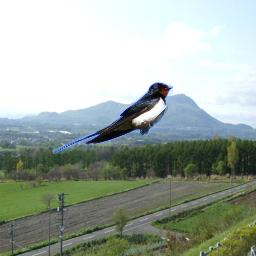Swallow: (51, 82, 173, 154)
